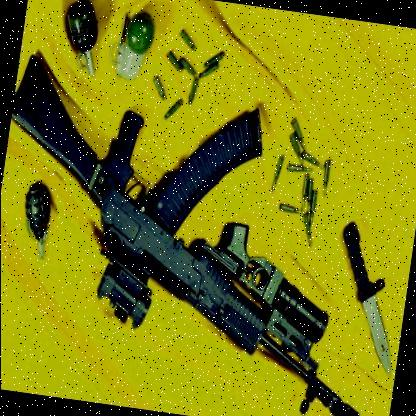rifle: (0, 43, 414, 416)
